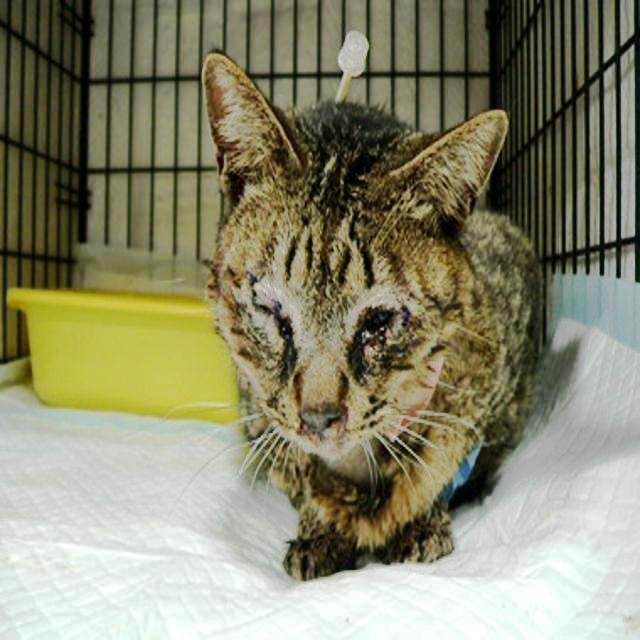eye_infection: (362, 304, 399, 349)
